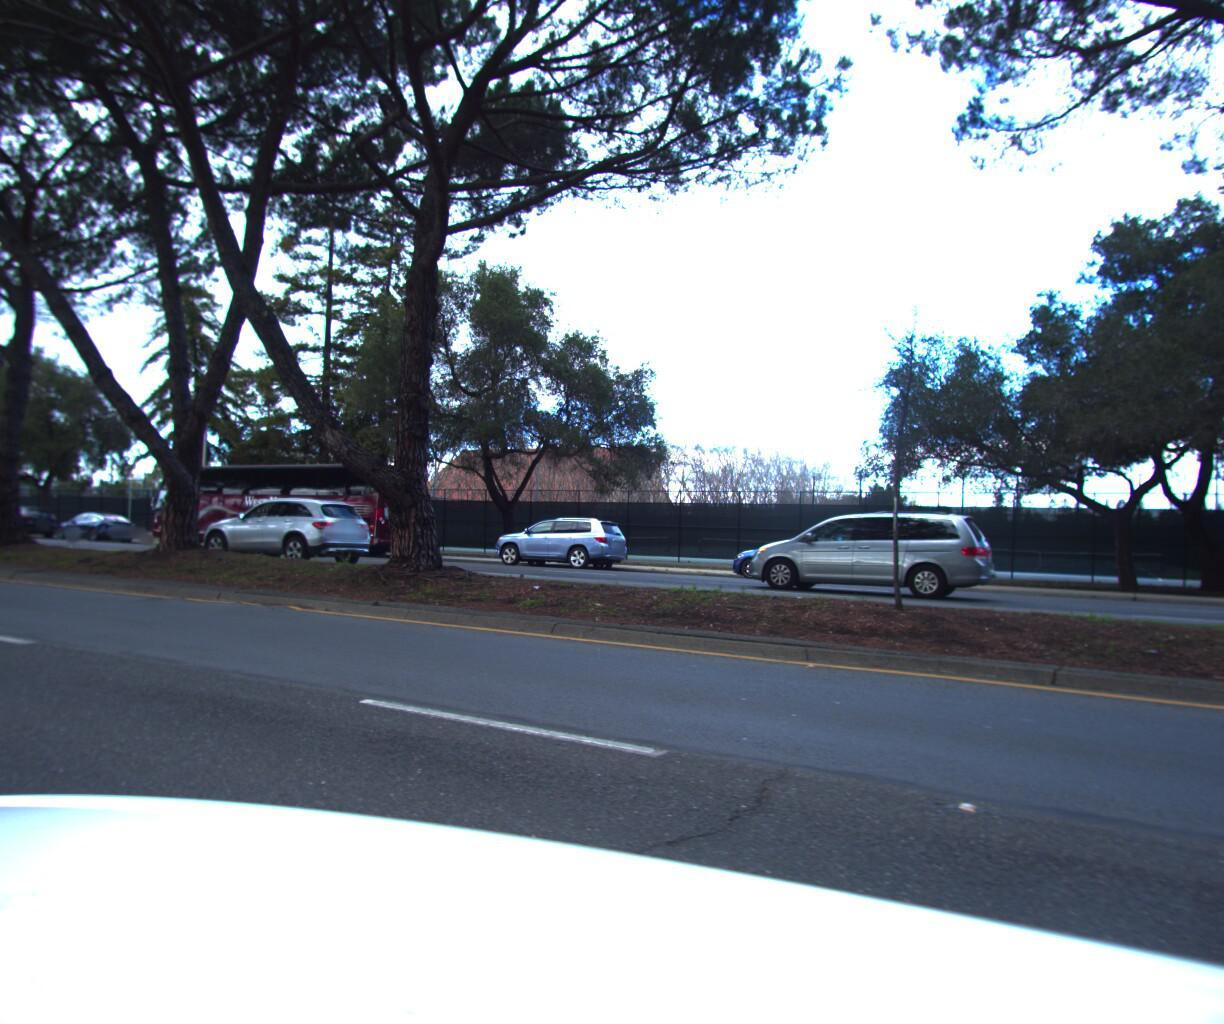bus: (139, 454, 436, 557)
car: (746, 497, 1012, 598), (182, 493, 376, 568), (720, 526, 893, 590), (483, 510, 635, 569), (46, 506, 138, 542), (0, 500, 59, 534)
